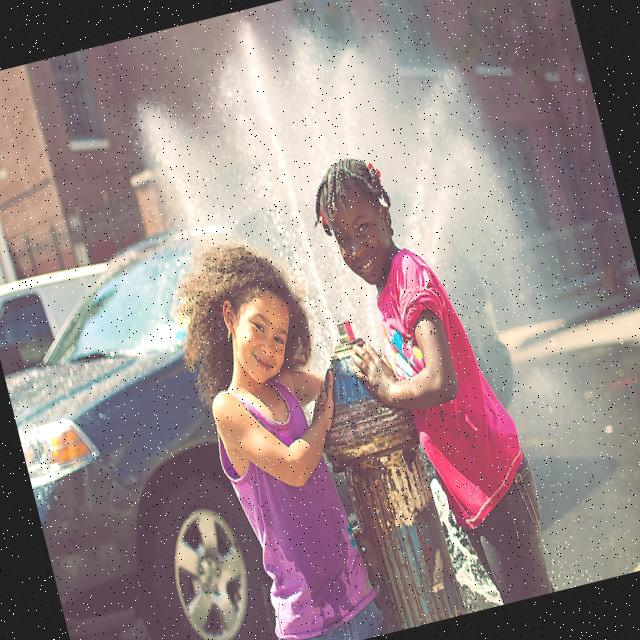fire_hydrant: (300, 311, 464, 626)
